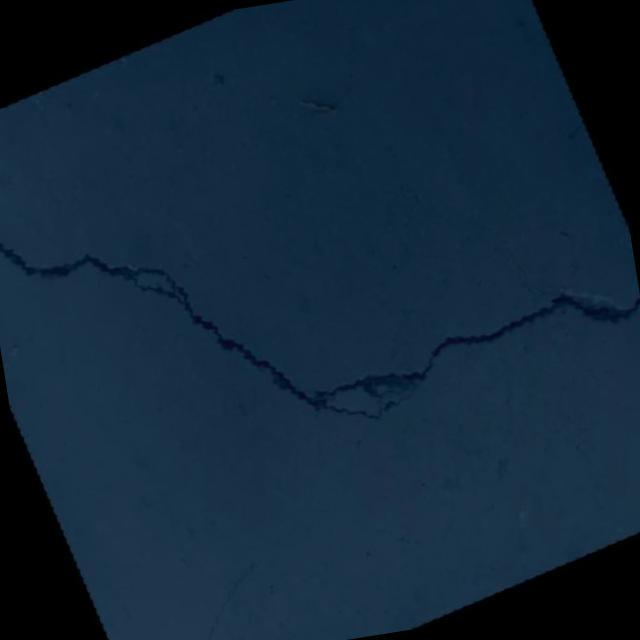crack: (0, 0, 640, 562), (323, 12, 458, 259)
